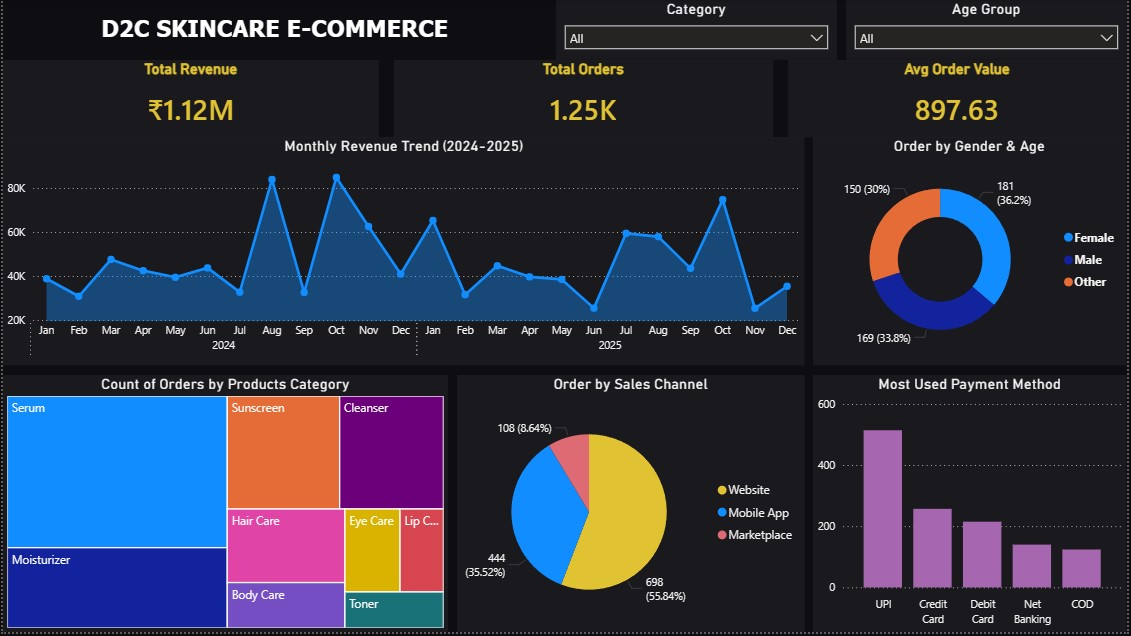

What the dashboard file says about the page in this screenshot:
{"tool":"powerbi","page":{"name":"Page 1","canvas":[1280,720],"ordinal":0},"visuals":[{"type":"lineChart","title":"Monthly Revenue Trend (2024-2025)","fields":{"Y":["Sum(Orders.final_amount)"],"Category":["Calendar.Year","Calendar.Month Name"]},"box":[0,155.8,913,259.7],"z":0},{"type":"textbox","box":[0,0,630.2,68.1],"z":2},{"type":"slicer","title":"Category","fields":{"Values":["Products.category"]},"box":[630.2,0,319.7,68.1],"z":3},{"type":"slicer","title":"Age Group","fields":{"Values":["Customers.age_group"]},"box":[960.3,0,319.7,68.1],"z":4},{"type":"cardVisual","title":"Total Revenue","fields":{"Data":["Orders.Total Revenue"]},"box":[0,68.1,428.2,87.7],"z":5},{"type":"cardVisual","title":"Avg Order Value","fields":{"Data":["Orders.AOV"]},"box":[894.5,68.1,385.5,87.7],"z":6},{"type":"cardVisual","title":"Total Orders","fields":{"Data":["Orders.Total Orders"]},"box":[445.5,68.1,431.7,87.7],"z":7},{"type":"donutChart","title":"Order by Gender & Age","fields":{"Category":["Customers.gender"],"Y":["CountNonNull(Customers.age_group)"]},"box":[923.4,155.8,356.6,259.7],"z":8},{"type":"treemap","title":"Count of Orders by Products Category","fields":{"Group":["Products.category"],"Values":["CountNonNull(Orders.order_id)"]},"box":[0,427.1,506.7,293.2],"z":9},{"type":"pieChart","title":"Order by Sales Channel","fields":{"Category":["Orders.sales_channel"],"Y":["CountNonNull(Orders.order_id)"]},"box":[517.1,427.1,395.9,293.2],"z":10},{"type":"clusteredColumnChart","title":"Most Used Payment Method","fields":{"Category":["Orders.payment_method"],"Y":["CountNonNull(Orders.order_id)"]},"box":[923,427,357,293],"z":11}]}

Visuals, with their boxes in screenshot pixels (x1, y1, x2, y2), scaled from the page's 1280x720 canvas onto the 1131x636 screenshot:
"Monthly Revenue Trend (2024-2025)" lineChart: [left=0, top=138, right=807, bottom=367]
textbox: [left=0, top=0, right=557, bottom=60]
"Category" slicer: [left=557, top=0, right=839, bottom=60]
"Age Group" slicer: [left=849, top=0, right=1130, bottom=60]
"Total Revenue" cardVisual: [left=0, top=60, right=378, bottom=138]
"Avg Order Value" cardVisual: [left=790, top=60, right=1130, bottom=138]
"Total Orders" cardVisual: [left=394, top=60, right=775, bottom=138]
"Order by Gender & Age" donutChart: [left=816, top=138, right=1130, bottom=367]
"Count of Orders by Products Category" treemap: [left=0, top=377, right=448, bottom=635]
"Order by Sales Channel" pieChart: [left=457, top=377, right=807, bottom=635]
"Most Used Payment Method" clusteredColumnChart: [left=816, top=377, right=1130, bottom=635]
